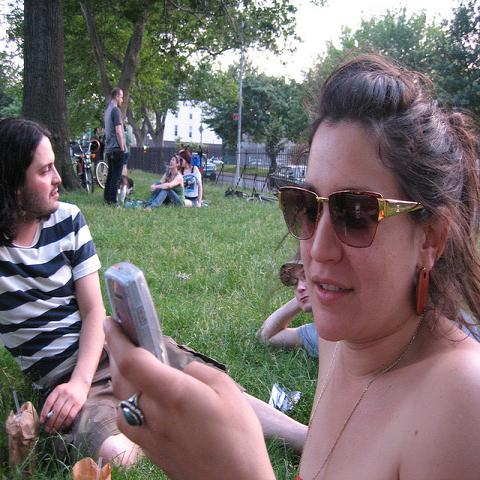car: (268, 163, 308, 189), (209, 157, 224, 164)
